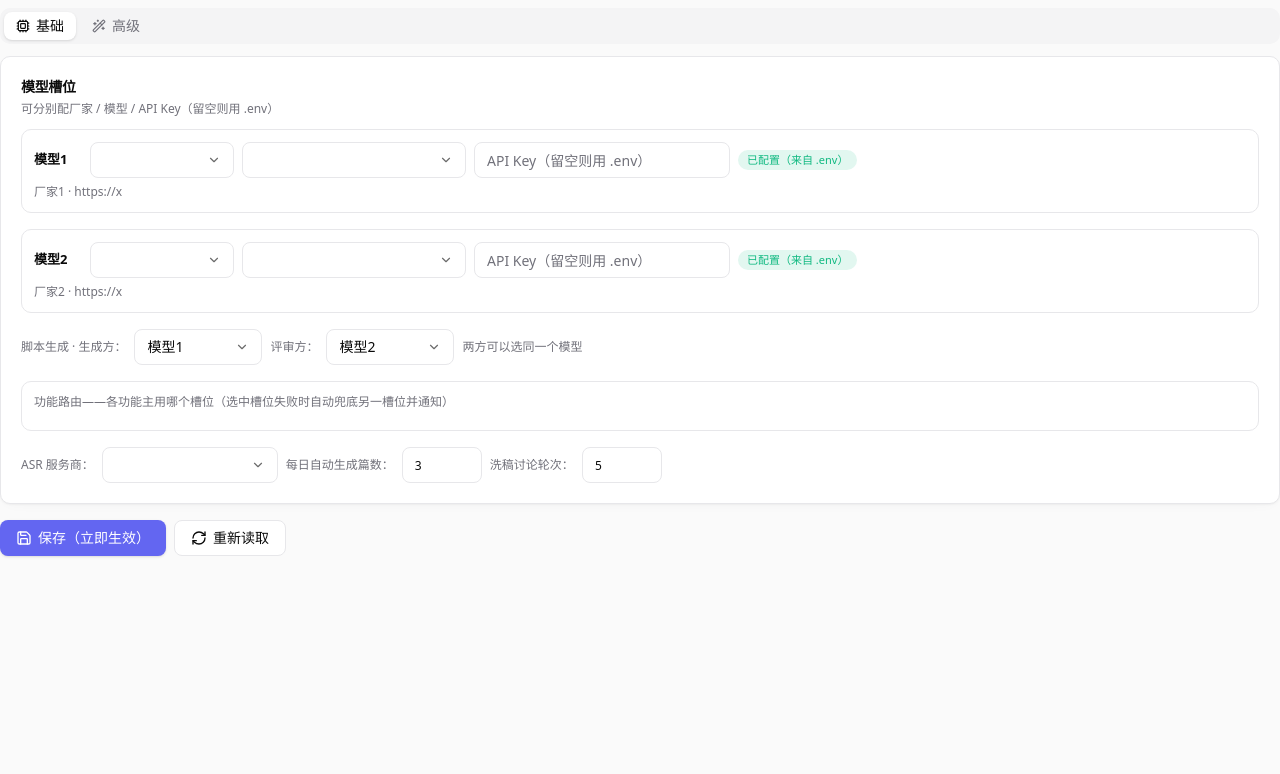
PromptsPage R-255 提示词清单 › 旧接口（无新字段）兜底：归入「全部提示词」组，选中可编辑并显示保存按钮
Click the tab "高级": {"x": 116, "y": 26} top-left (80, 12), bottom-right (152, 40)
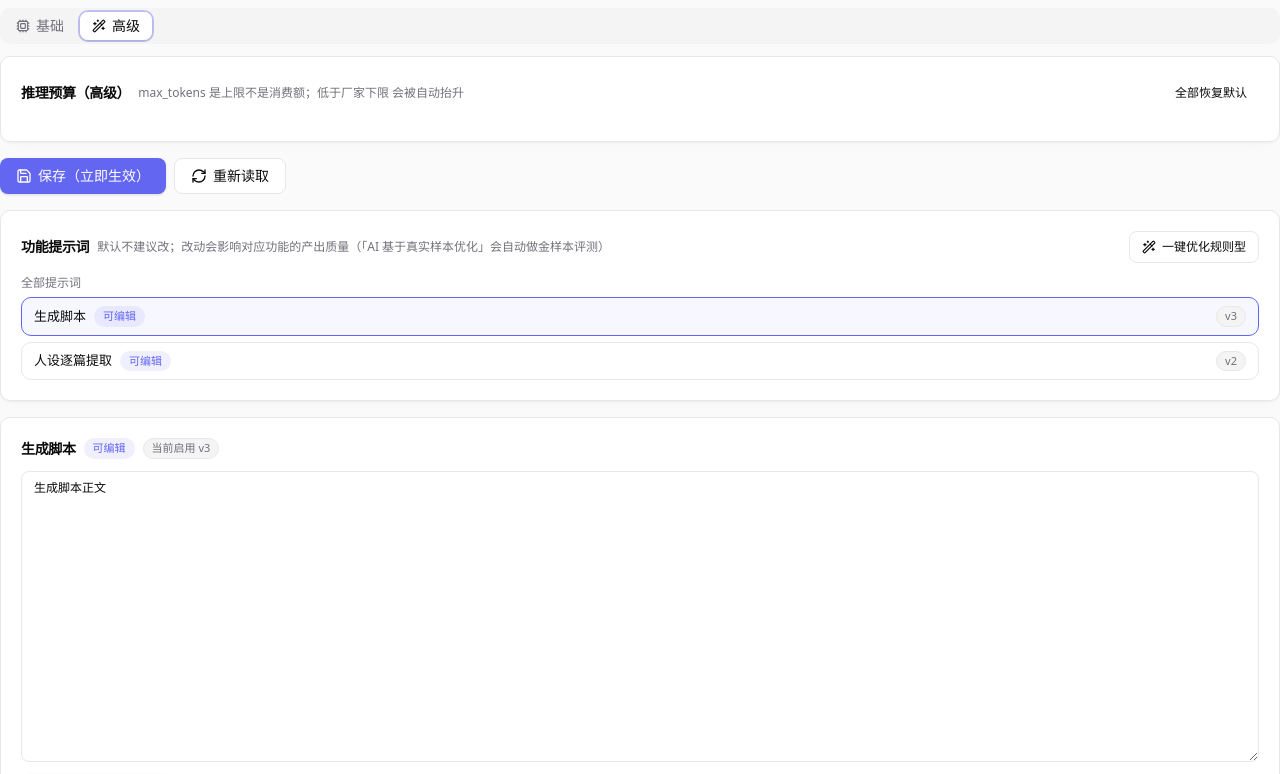
Expected: the text "全部提示词" is shown, top-left (21, 274), bottom-right (81, 291)
Expected: the text box holds "生成脚本正文", top-left (21, 471), bottom-right (1259, 762)
Click the button "人设逐篇提取 可编辑 v2": {"x": 73, "y": 360} top-left (21, 342), bottom-right (1259, 380)
(page scrolled)
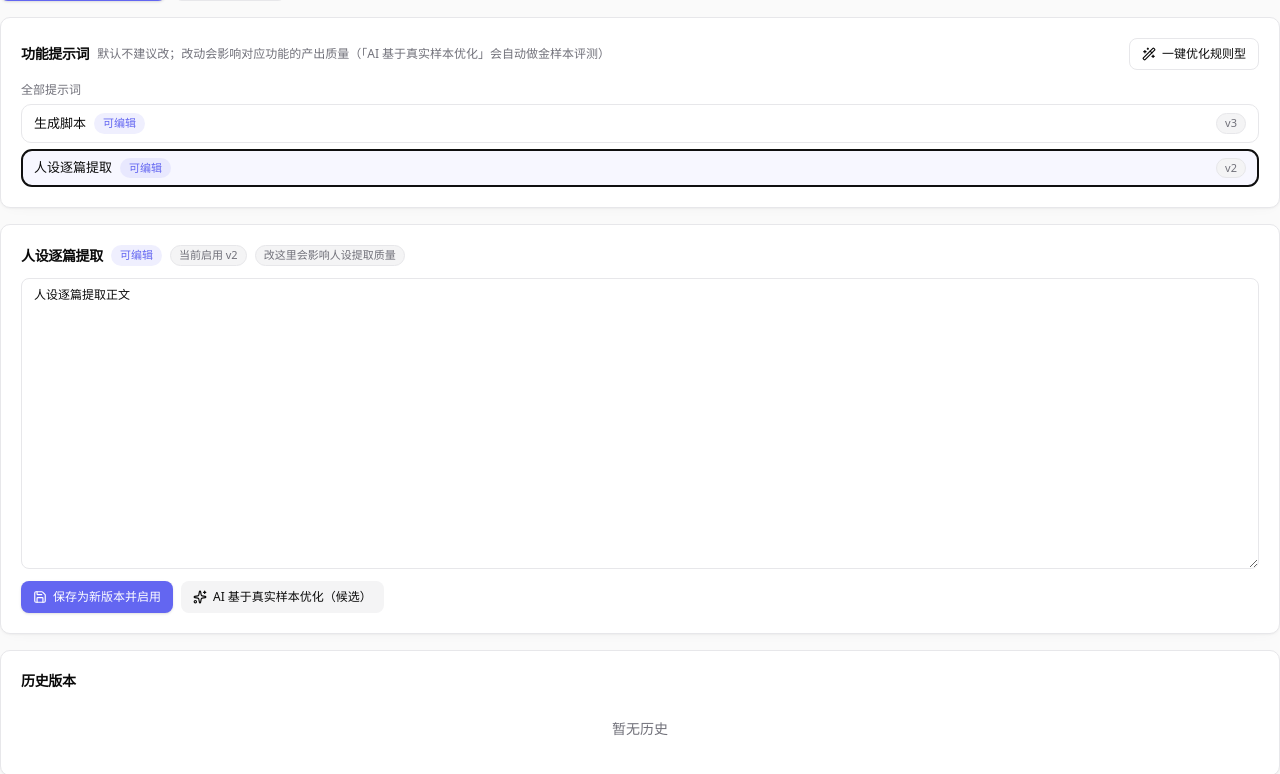
Expected: the button "AI 基于真实样本优化（候选）" is shown, top-left (181, 581), bottom-right (384, 613)
Expected: the text box holds "人设逐篇提取正文", top-left (21, 278), bottom-right (1259, 569)
